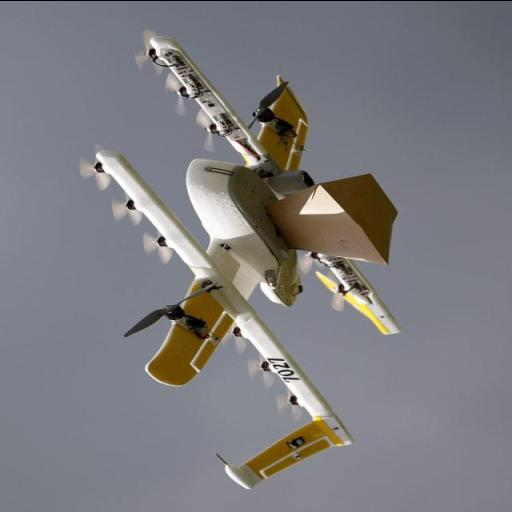uav: (74, 32, 408, 490)
